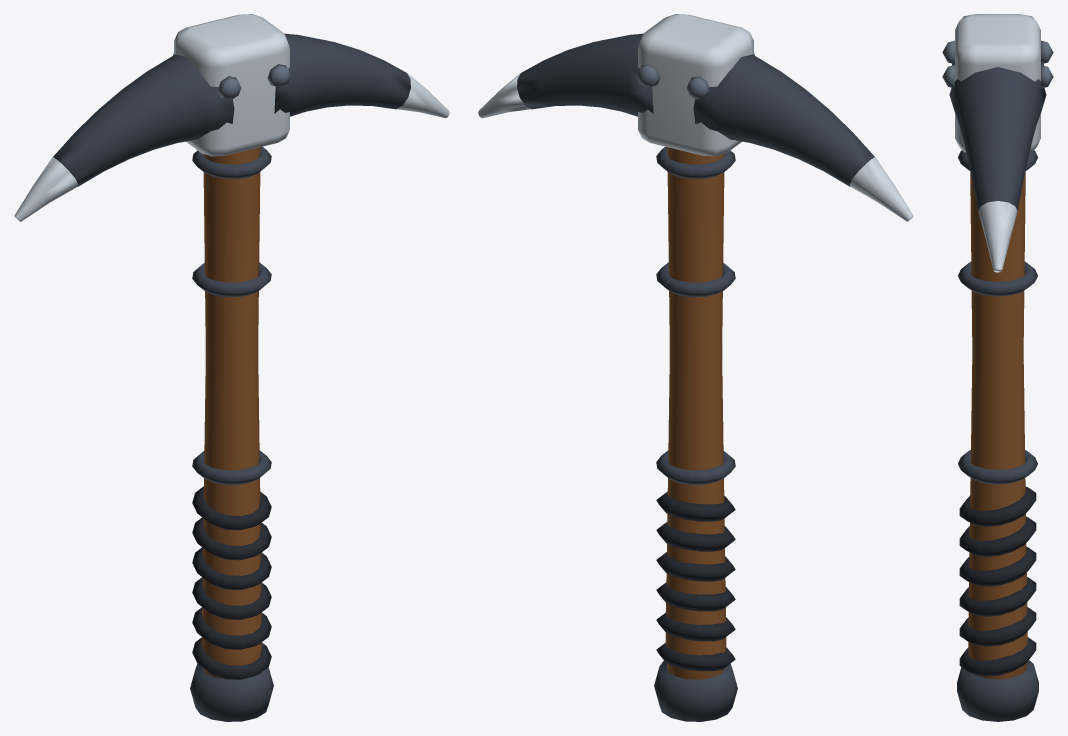
Rendered from Tool_T4.fbx.
3 renders of one model, left to right at view 1: azimuth 30°, elevation 25°; view 2: azimuth 150°, elevation 25°; view 3: azimuth 270°, elevation 25°, orthographic.
Parts seen in each view (by area): view 1: ToolT4Handle, ToolT4Head; view 2: ToolT4Handle, ToolT4Head; view 3: ToolT4Handle, ToolT4Head.
Boxes of the visible parts, x1,y1,x2,y2 form: ToolT4Handle: (190,146,273,721); ToolT4Head: (14,14,449,221); ToolT4Handle: (654,146,737,721); ToolT4Head: (478,14,913,221); ToolT4Handle: (957,150,1038,721); ToolT4Head: (942,14,1053,272).
Bounding box in the file's own units: 279 × 415 × 62.
